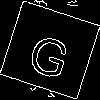G: (24, 25, 76, 82)
